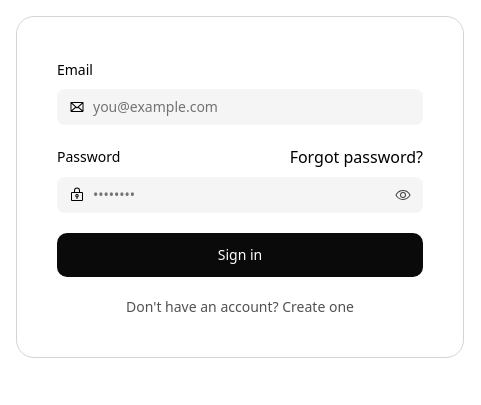
it: LoginForm › should display validation error for short password
The width and height of the screenshot is (481, 405).
Step 1. Type "test@example.com" into the field labelled "Email" → (240, 107), box [57, 89, 423, 125]
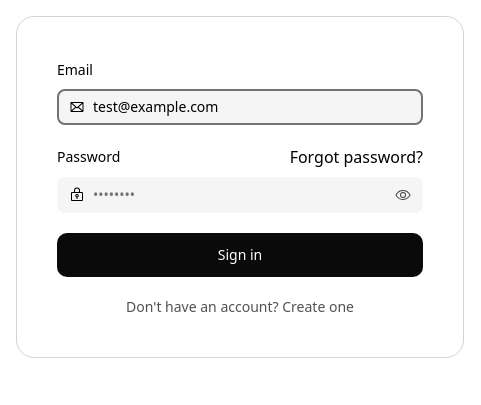
Step 2. Type "short" into the password field labelled "Password" → (240, 195), box [57, 177, 423, 213]
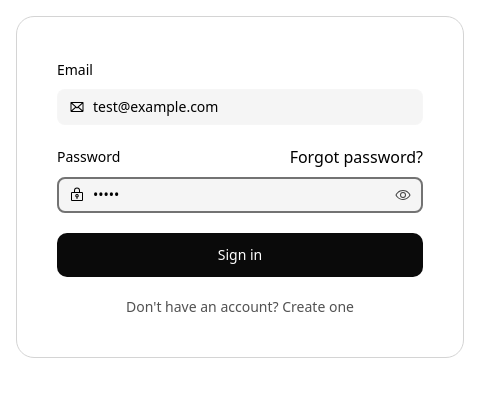
Step 3. Click the button "Sign in" → (240, 255), box [57, 233, 423, 277]
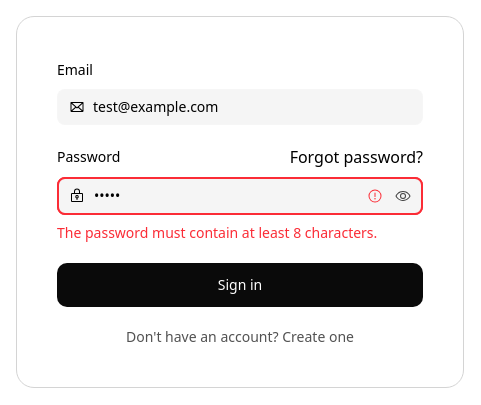
Now the text "The password must contain at least 8 characters." is shown, box [57, 223, 423, 243]
